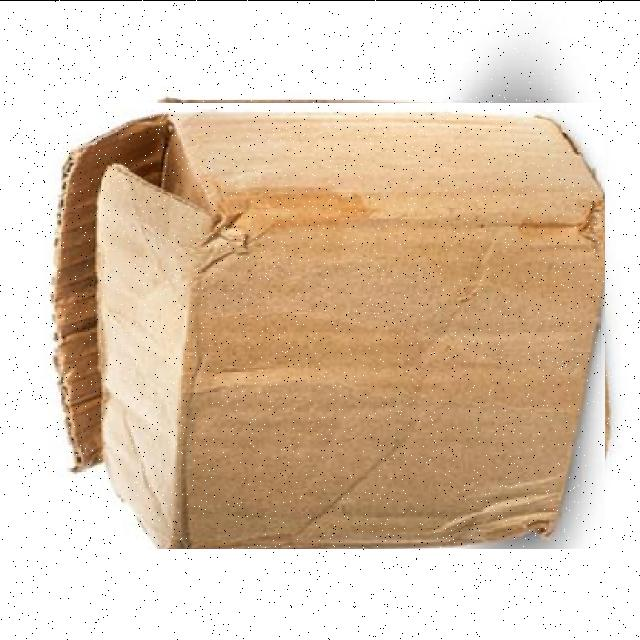defect: (40, 102, 605, 548)
